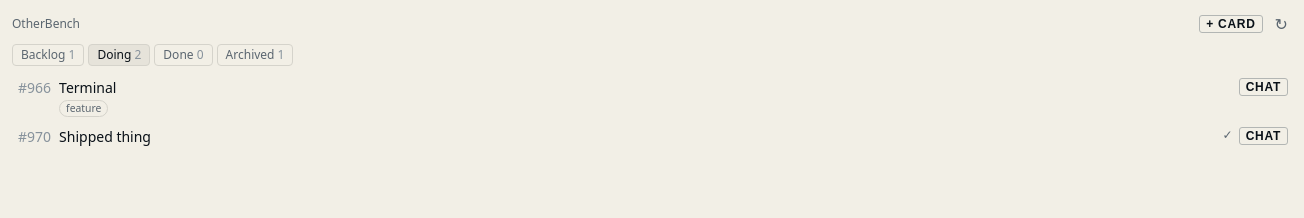
Test: DeckTab › a refresh that fails for another reason shows the error above the cached card
The width and height of the screenshot is (1304, 218).
Click the button with test id "card-row-966".
click(88, 88)  # box top-left (12, 74), bottom-right (1239, 121)
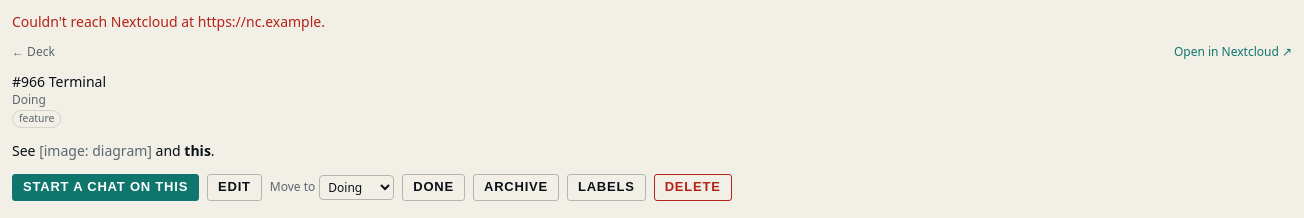
Check: the heading "#966 Terminal" is shown, box top-left (12, 72), bottom-right (106, 91)
Check: the message reads "Couldn't reach Nextcloud at https://nc.example.", box top-left (12, 12), bottom-right (325, 31)
